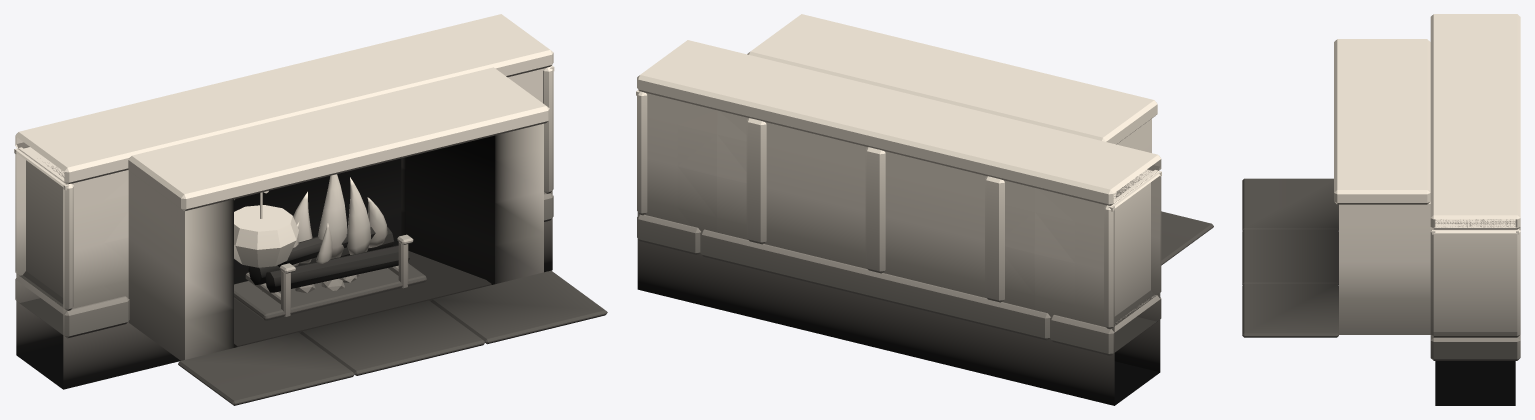
The model's file is SM_VKI_Wall_Timber_Fireplace_300_Cut.fbx.
3 views of the same model, side by side, from view 1: azimuth 30°, elevation 25°; view 2: azimuth 150°, elevation 25°; view 3: azimuth 270°, elevation 25° (orthographic). The views are drawn at different scales.
Parts seen in each view (by area): view 1: SM_VKI_Wall_Timber_Fireplace_300_Cut.001; view 2: SM_VKI_Wall_Timber_Fireplace_300_Cut.001; view 3: SM_VKI_Wall_Timber_Fireplace_300_Cut.001.
Part boxes in pixels (<box>): SM_VKI_Wall_Timber_Fireplace_300_Cut.001: <box>14,14,607,405</box>; SM_VKI_Wall_Timber_Fireplace_300_Cut.001: <box>636,14,1213,405</box>; SM_VKI_Wall_Timber_Fireplace_300_Cut.001: <box>1242,14,1520,405</box>.
Size of the model in its own units: 3 by 1.3 by 1.73.
